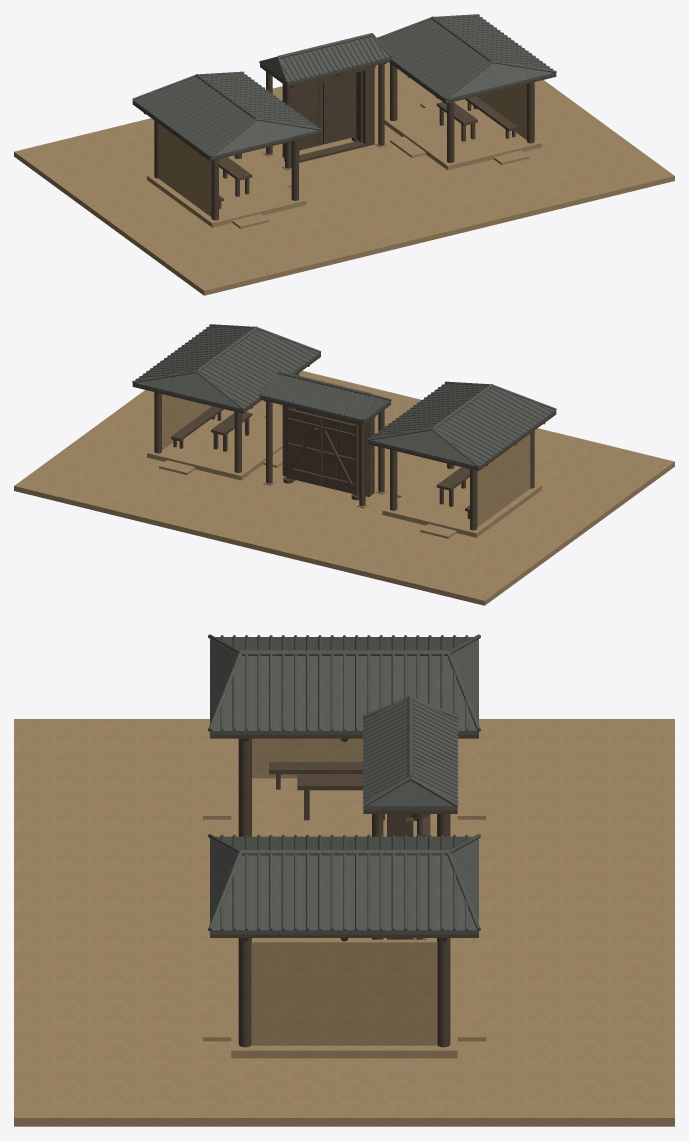
The model's file is guard-slice-closed-LOD0.glb.
3 renders of one model, top to bottom at view 1: azimuth 30°, elevation 25°; view 2: azimuth 150°, elevation 25°; view 3: azimuth 270°, elevation 25°, orthographic. The views are drawn at different scales.
Visible parts, largest first — view 1: guard-slice-ground-earth, guard-slice-west-tile, guard-slice-east-tile, guard-slice-west-earth, guard-slice-east-earth, guard-slice-portal-timber, guard-slice-portal-tile, guard-slice-east-timber, guard-slice-west-timber, guard-slice-leaf_R-timber, guard-slice-leaf_L-timber; view 2: guard-slice-ground-earth, guard-slice-west-tile, guard-slice-east-tile, guard-slice-west-earth, guard-slice-east-earth, guard-slice-portal-tile, guard-slice-portal-timber, guard-slice-east-timber, guard-slice-leaf_L-timber, guard-slice-leaf_R-timber, guard-slice-west-timber; view 3: guard-slice-ground-earth, guard-slice-east-tile, guard-slice-east-earth, guard-slice-west-tile, guard-slice-west-earth, guard-slice-portal-tile, guard-slice-west-timber, guard-slice-east-timber, guard-slice-portal-timber.
Part boxes in pixels (x1,y1,x2,y2): guard-slice-ground-earth: [14, 62, 674, 295]; guard-slice-west-tile: [132, 71, 321, 159]; guard-slice-east-tile: [377, 14, 556, 101]; guard-slice-west-earth: [147, 124, 306, 228]; guard-slice-east-earth: [384, 84, 541, 170]; guard-slice-portal-timber: [260, 60, 390, 168]; guard-slice-portal-tile: [259, 33, 391, 84]; guard-slice-east-timber: [389, 62, 556, 162]; guard-slice-west-timber: [132, 103, 320, 220]; guard-slice-leaf_R-timber: [323, 73, 356, 144]; guard-slice-leaf_L-timber: [299, 82, 322, 150]; guard-slice-ground-earth: [14, 370, 674, 605]; guard-slice-west-tile: [367, 381, 556, 469]; guard-slice-east-tile: [132, 324, 320, 411]; guard-slice-west-earth: [382, 434, 541, 538]; guard-slice-east-earth: [147, 394, 282, 480]; guard-slice-portal-tile: [259, 370, 391, 422]; guard-slice-portal-timber: [260, 397, 390, 506]; guard-slice-east-timber: [132, 355, 320, 472]; guard-slice-leaf_L-timber: [322, 417, 358, 495]; guard-slice-leaf_R-timber: [287, 407, 322, 486]; guard-slice-west-timber: [368, 413, 556, 530]; guard-slice-ground-earth: [14, 719, 674, 1126]; guard-slice-east-tile: [208, 834, 480, 934]; guard-slice-east-earth: [203, 939, 485, 1058]; guard-slice-west-tile: [208, 634, 480, 734]; guard-slice-west-earth: [203, 738, 485, 836]; guard-slice-portal-tile: [362, 695, 458, 810]; guard-slice-west-timber: [210, 735, 478, 836]; guard-slice-east-timber: [210, 934, 478, 1047]; guard-slice-portal-timber: [363, 810, 457, 939].
Size of the model in its own units: 20 by 4.48 by 14.
3 materials, 3 textured.
